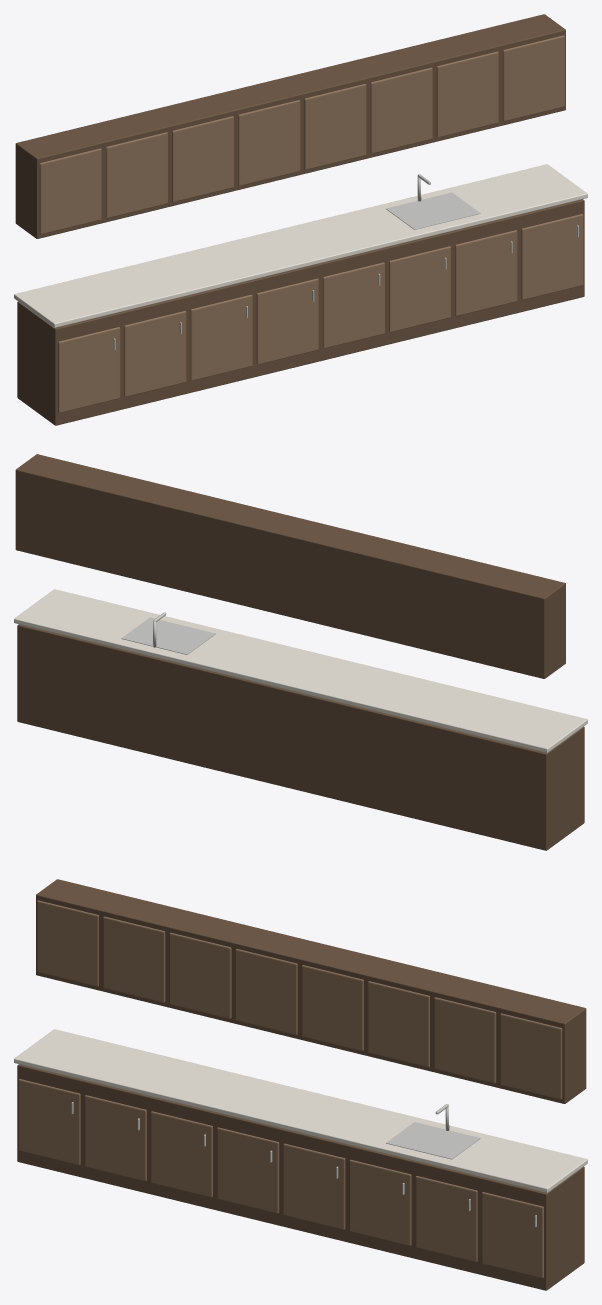
File: counter.glb
The picture shows the model from 3 angles, top to bottom: view 1: azimuth 30°, elevation 25°; view 2: azimuth 150°, elevation 25°; view 3: azimuth 330°, elevation 25°; orthographic projection.
Parts seen in each view (by area): view 1: top, base, upper, udoor, udoor.005, udoor.001, udoor.006, udoor.003, udoor.004, door.004, door, door.006 (+8 smaller); view 2: base, upper, top, sink; view 3: top, base, upper, udoor.007, udoor.002, udoor.001, udoor.006, udoor.003, udoor.004, door.004, door.005, door (+8 smaller).
Part boxes in pixels (x1,y1,x2,y2): top: [14, 164, 587, 327]; base: [17, 199, 584, 425]; upper: [15, 14, 565, 238]; udoor: [39, 148, 101, 234]; udoor.005: [370, 67, 432, 153]; udoor.001: [105, 132, 167, 218]; udoor.006: [436, 51, 498, 137]; udoor.003: [238, 100, 300, 186]; udoor.004: [304, 84, 366, 169]; door.004: [322, 262, 384, 348]; door: [58, 327, 120, 413]; door.006: [455, 230, 517, 316]; base: [17, 624, 584, 850]; upper: [15, 454, 565, 678]; top: [14, 589, 587, 752]; sink: [121, 617, 215, 654]; top: [14, 1029, 587, 1192]; base: [17, 1064, 584, 1290]; upper: [36, 879, 586, 1103]; udoor.007: [500, 1013, 562, 1099]; udoor.002: [169, 932, 231, 1018]; udoor.001: [103, 916, 165, 1002]; udoor.006: [434, 997, 496, 1083]; udoor.003: [235, 949, 297, 1034]; udoor.004: [301, 965, 363, 1051]; door.004: [283, 1143, 345, 1229]; door.005: [349, 1159, 411, 1245]; door: [18, 1079, 80, 1165].
Size of the model in its own units: 4.84 by 2.2 by 0.67.
